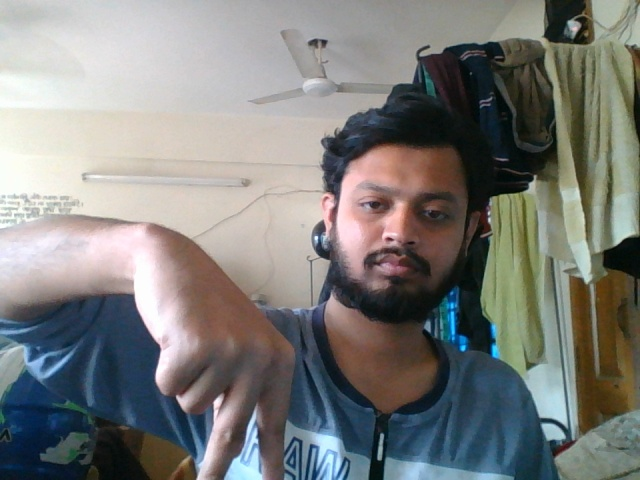pa: (125, 224, 300, 480)
